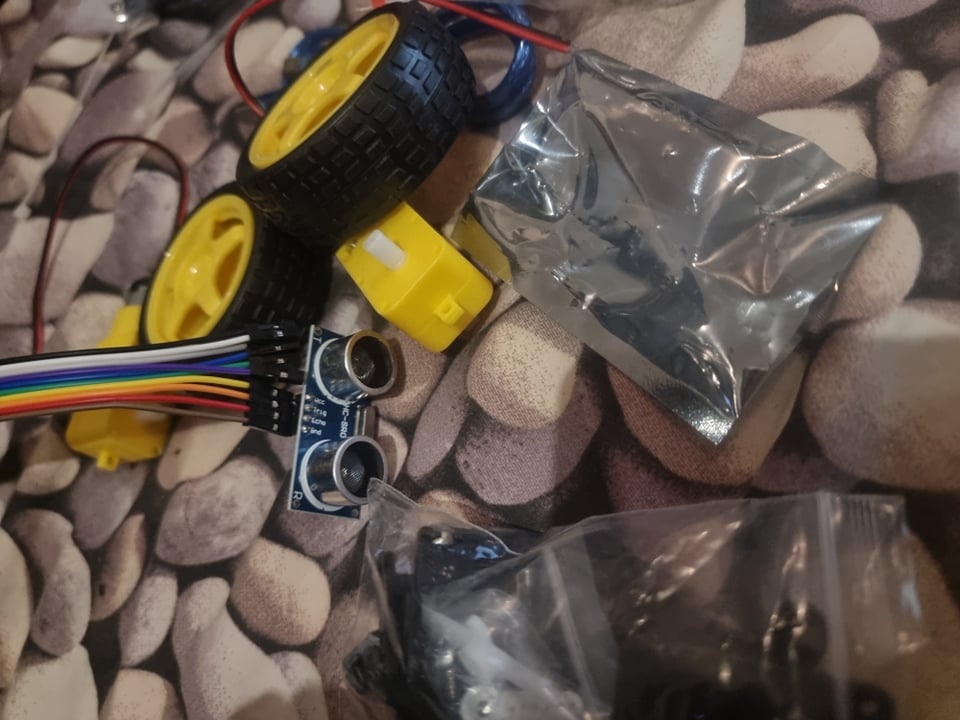SENSOR: (305, 325, 397, 516)
